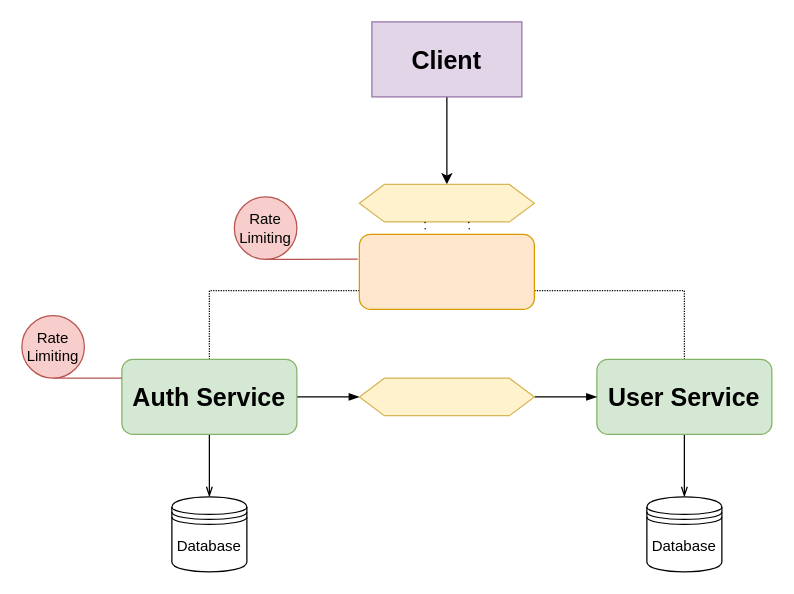
This 794x594 diagram has some shape labels left out. Here are the shapes that lost their labels. From the top down, the box of each, then its label:
(358, 183, 534, 222): JWT + Role-based
(358, 233, 534, 309): API Gateway
(358, 377, 534, 416): JWT Filter
